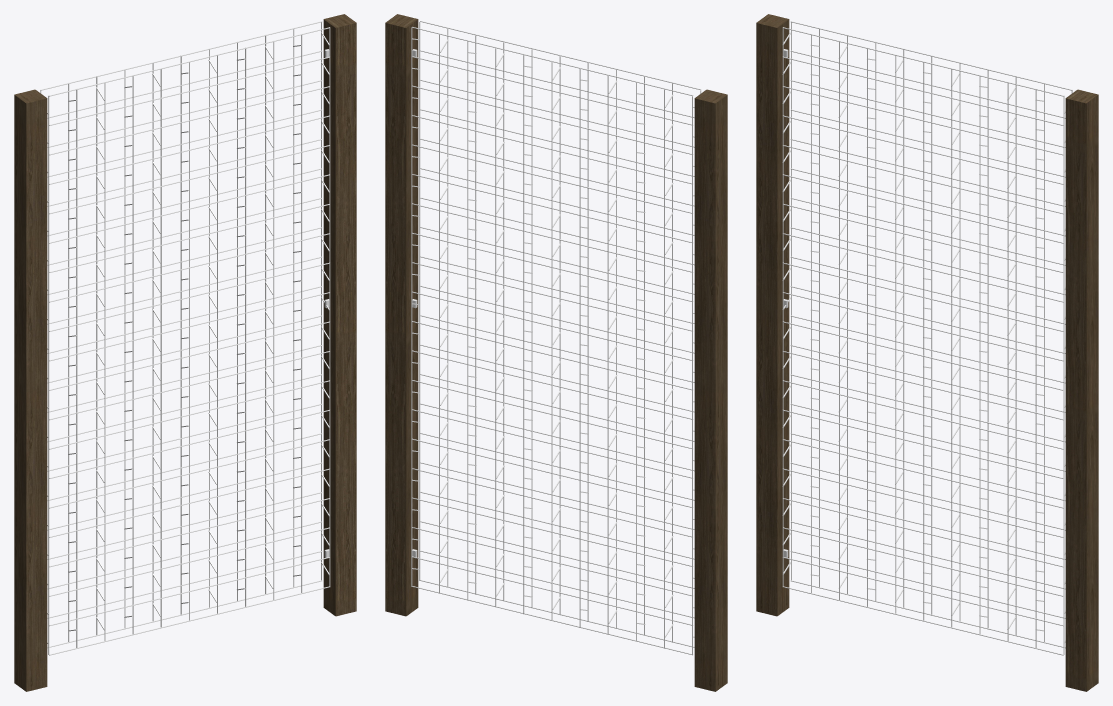
Rendered from toremeshfence_w1100_white_brownebony.fbx.
The picture shows the model from 3 angles, left to right: view 1: azimuth 30°, elevation 25°; view 2: azimuth 150°, elevation 25°; view 3: azimuth 330°, elevation 25°; orthographic projection.
Parts seen in each view (by area): view 1: トレメッシュ1100.015; view 2: トレメッシュ1100.015; view 3: トレメッシュ1100.015.
Part boxes in pixels (<box>): トレメッシュ1100.015: <box>14,14,356,691</box>; トレメッシュ1100.015: <box>385,14,727,691</box>; トレメッシュ1100.015: <box>756,14,1098,691</box>.
Bounding box in the file's own units: 117 × 200 × 7.5.
Materials: 3 (3 with a texture image).
